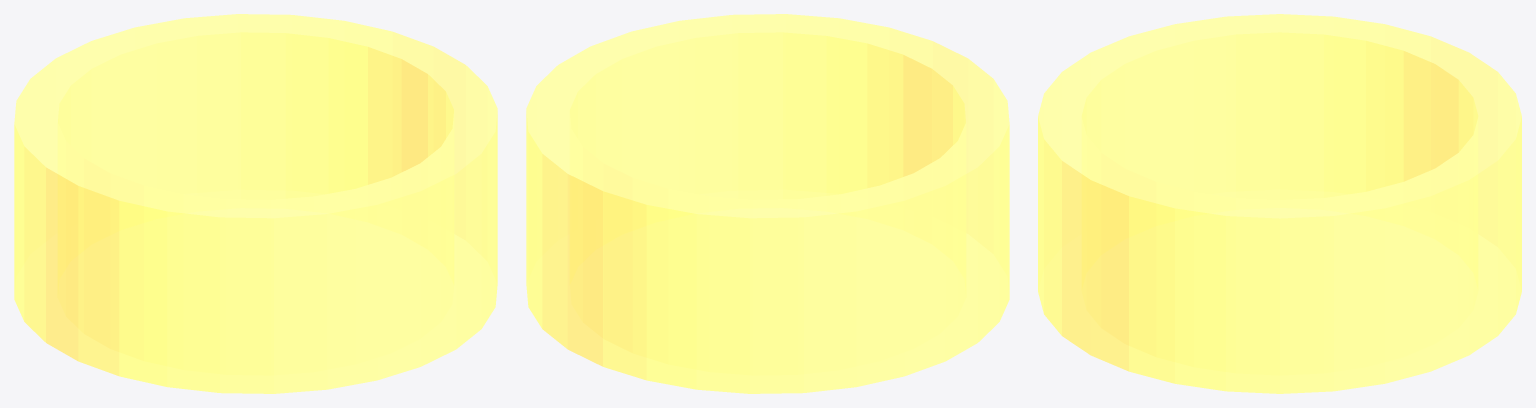
The model's file is fx_r_shock.glb.
The picture shows the model from 3 angles, left to right: view 1: azimuth 30°, elevation 25°; view 2: azimuth 150°, elevation 25°; view 3: azimuth 270°, elevation 25°; orthographic projection.
Parts seen in each view (by area): view 1: fx_r_shock_wave; view 2: fx_r_shock_wave; view 3: fx_r_shock_wave.
Boxes of the visible parts, x1,y1,x2,y2 form: fx_r_shock_wave: (14,14,497,393); fx_r_shock_wave: (526,14,1009,393); fx_r_shock_wave: (1038,14,1521,393).
Size of the model in its own units: 2 by 0.8 by 2.
